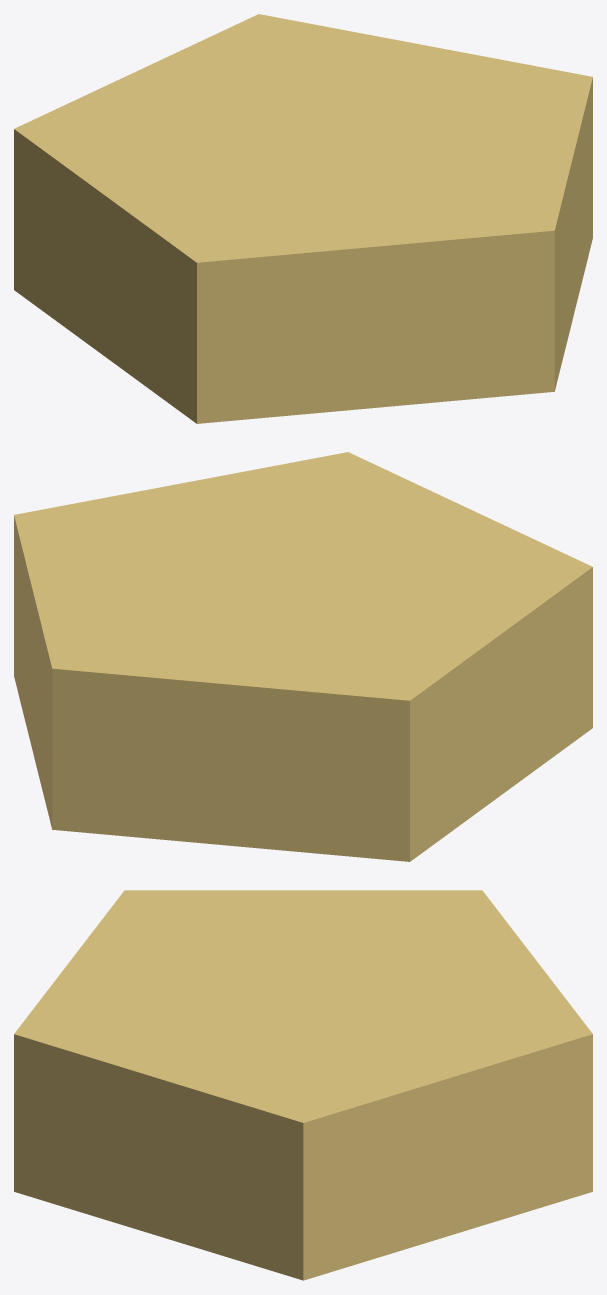
The model's file is prop-tenon-saw-nut-tn1.fbx.
3 views of the same model, one above another, from view 1: azimuth 30°, elevation 25°; view 2: azimuth 150°, elevation 25°; view 3: azimuth 270°, elevation 25° (orthographic). The views are drawn at different scales.
Visible parts, largest first — view 1: prop-tenon-saw-nut-tn1; view 2: prop-tenon-saw-nut-tn1; view 3: prop-tenon-saw-nut-tn1.
Part boxes in pixels (box(x1,y1,x2,y2)): prop-tenon-saw-nut-tn1: box(14, 14, 592, 423); prop-tenon-saw-nut-tn1: box(14, 452, 592, 861); prop-tenon-saw-nut-tn1: box(14, 890, 592, 1280).
Bounding box in the file's own units: 0.0127 × 0.004 × 0.0133.
